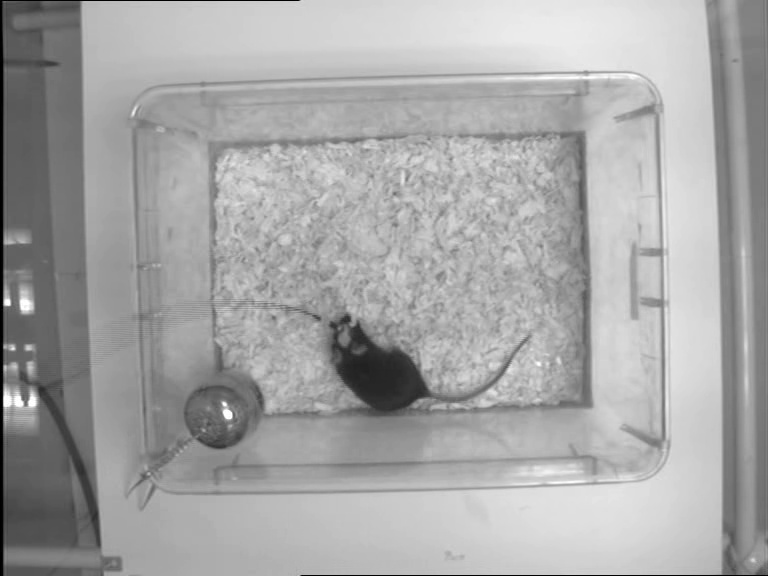mice: (328, 312, 534, 409)
